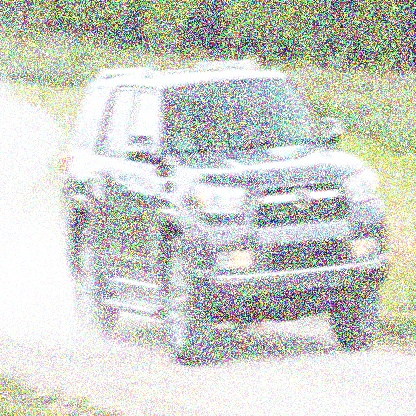Vehicle: (58, 58, 390, 364)
